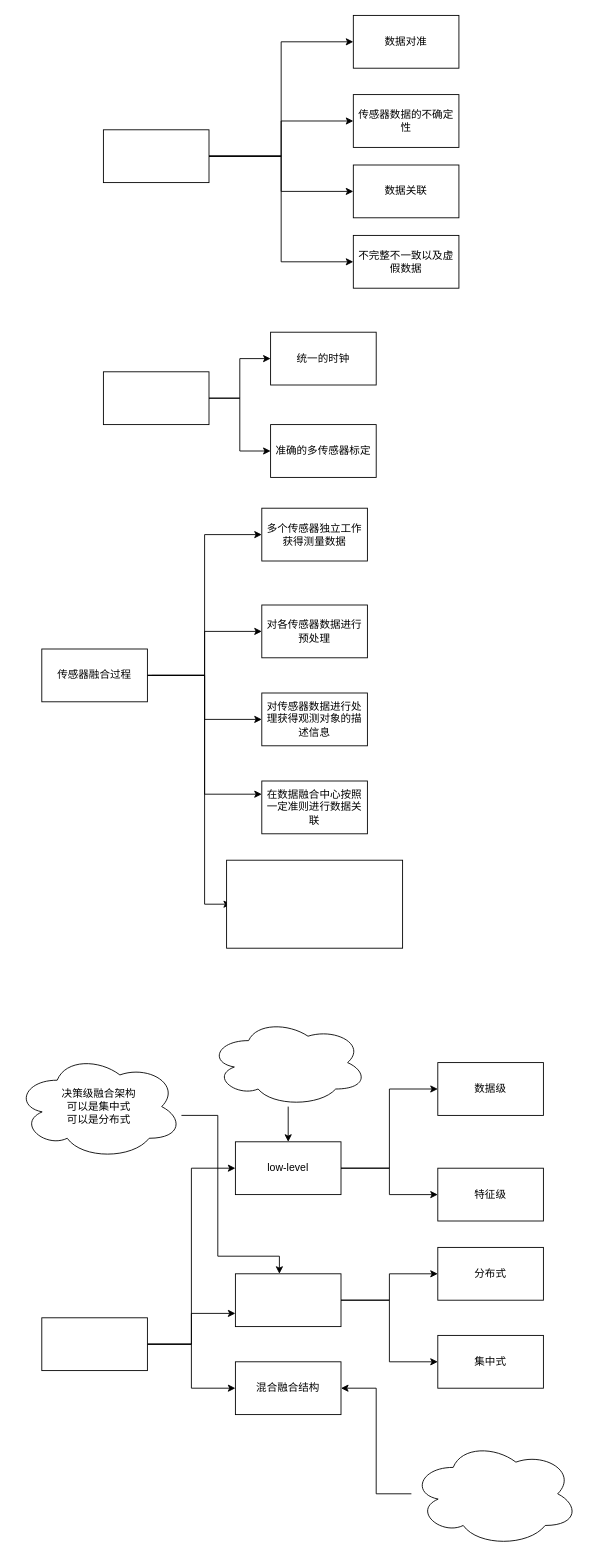
This 594x1562 diagram has some shape labels left out. The box of each missing label's shape, as (x1, y1, x2, y2) in pixels:
high-level: (235, 1273, 341, 1327)
使用足够优化的算法对各传感器数据进行融合，获得对观测对象的一致性描述和解释: (226, 859, 403, 948)
多传感器融合结构: (41, 1317, 147, 1371)
多传感器融合面临的问题: (103, 129, 209, 183)
多种low-level 和high-level组成: (411, 1440, 579, 1547)
对车载系统的要求: (103, 371, 209, 425)
是一种集中式的 融合架构: (208, 1018, 367, 1107)
